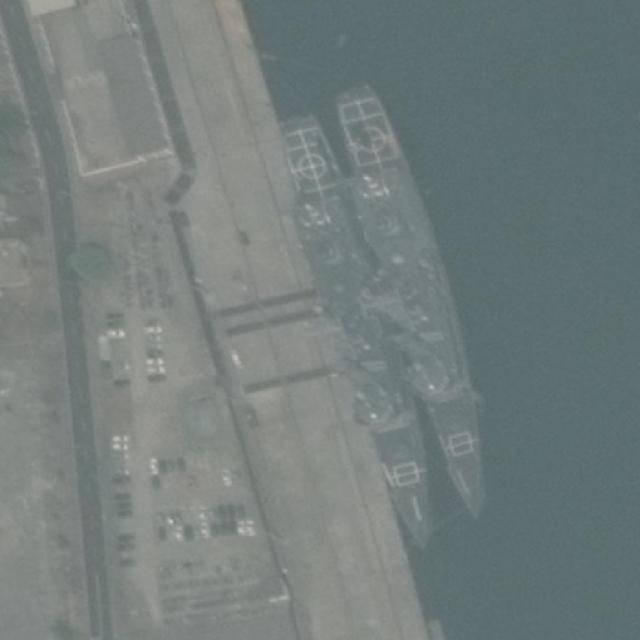Frigate: (332, 82, 509, 522), (277, 112, 453, 554)
